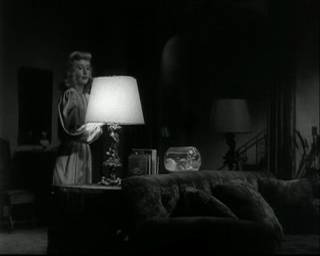face: (74, 59, 91, 84)
ls: (1, 1, 320, 256)
person: (51, 50, 107, 193)
